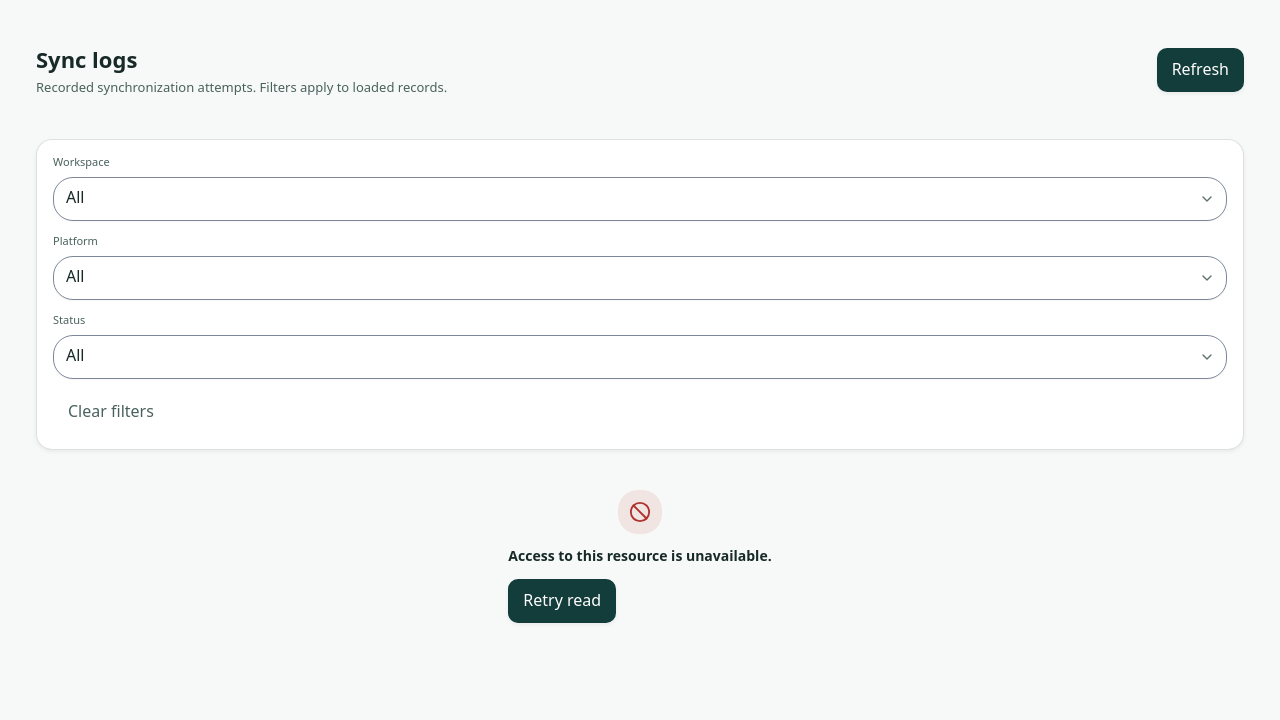
Test case: initial 401 never becomes empty; retry is the same read
expect the message "Access to this resource is unavailable. Retry read" is shown: met, box 508,490 -> 772,623
Click the button "Retry read" at (562,601), box 508,579 -> 616,623
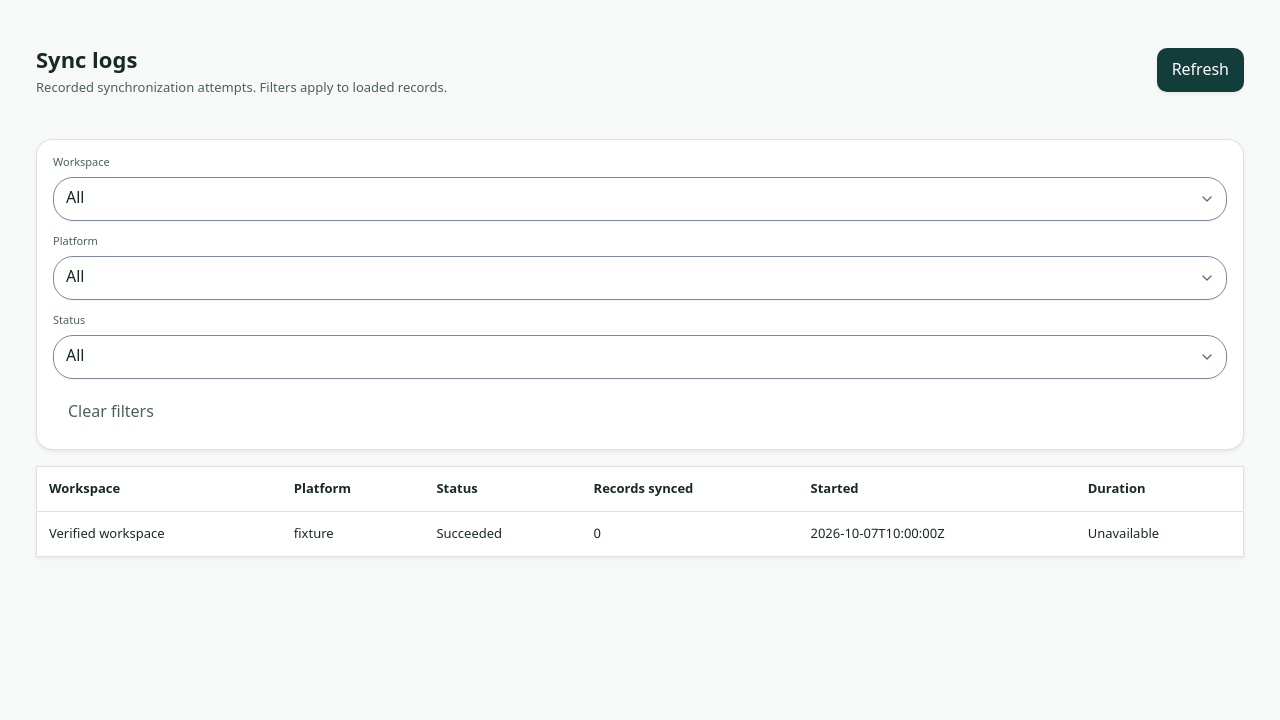
expect the table is shown: met, box 37,467 -> 1243,556
